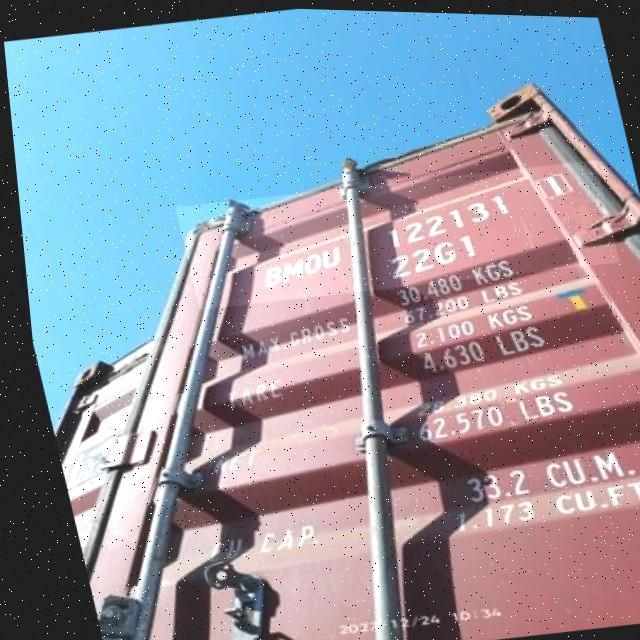container_number_h: (167, 146, 619, 318)
